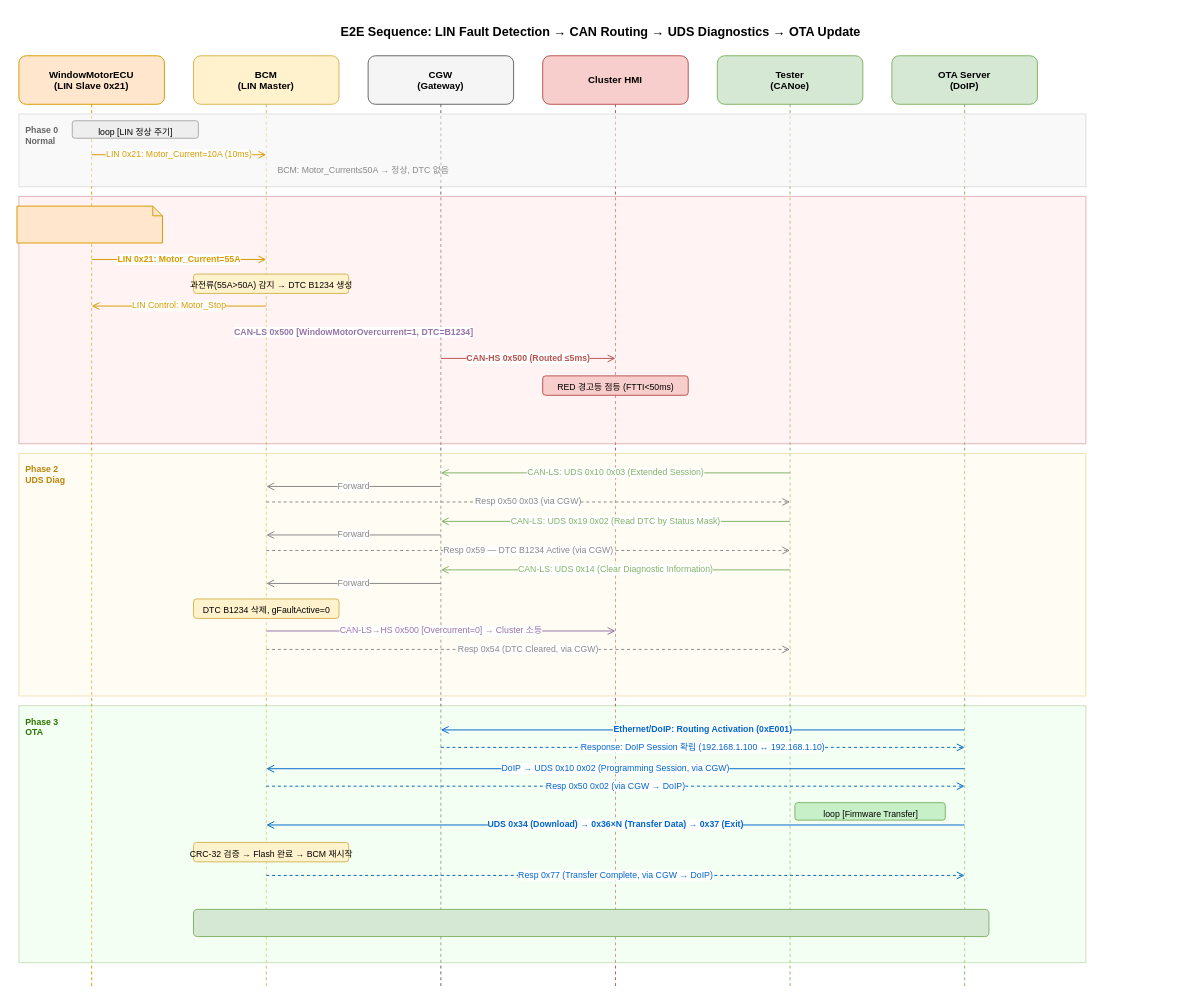
This 1200x1005 diagram has some shape labels left out. Each missing label, with the box of its shape:
[Fault Injection] LIN::motorCurrent = 55A: (16, 205, 162, 243)
✓ BCM 재시작 완료 / DTC B1234 소거 / Cluster 경고등 소등 / LIN Slave 재동작 확인: (193, 908, 989, 937)
